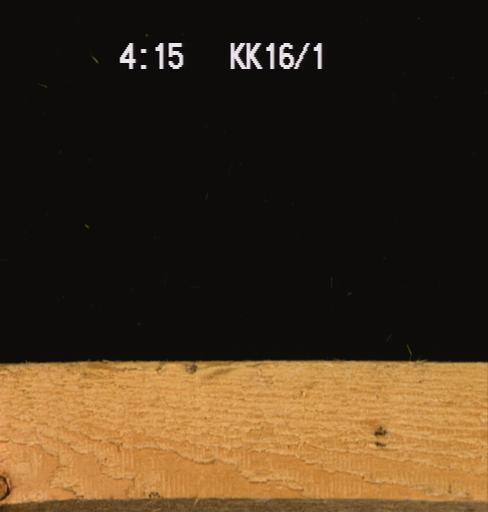dry_knot: (0, 472, 10, 502)
